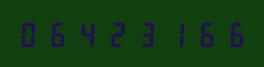four: (75, 20, 103, 47)
one: (162, 20, 190, 47)
six: (46, 20, 74, 47), (191, 20, 219, 47), (220, 20, 248, 47)
three: (133, 20, 161, 47)
two: (104, 20, 132, 47)
zero: (17, 20, 45, 47)
